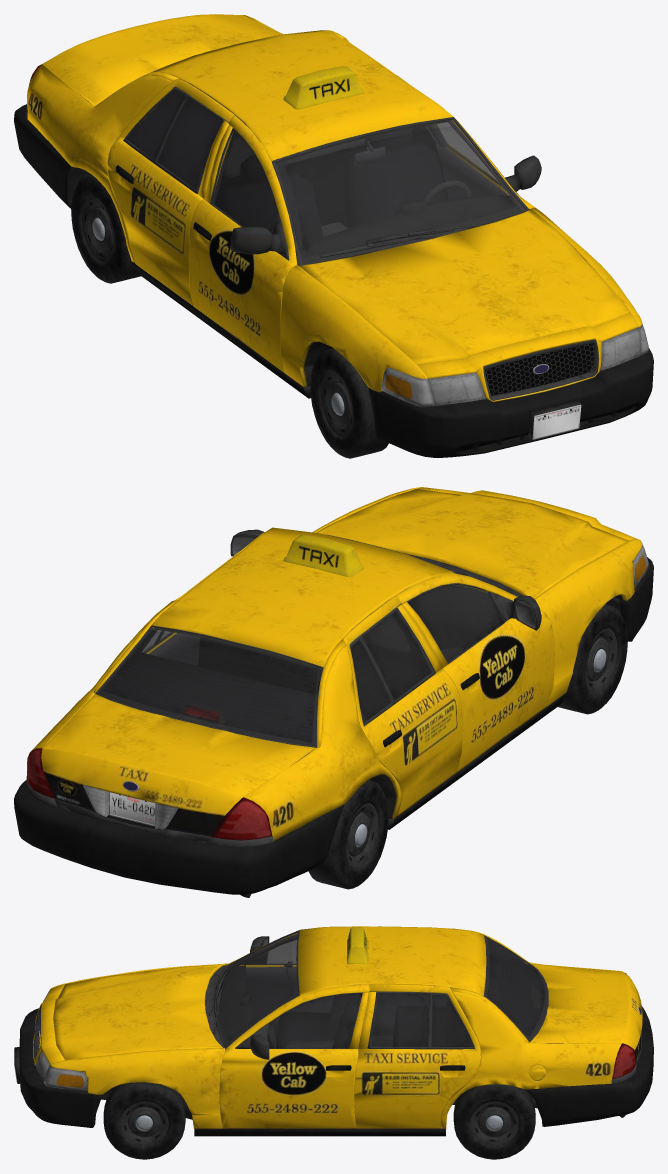
Rendered from crownvic_taxi.lod0.glb.
The picture shows the model from 3 angles, top to bottom: view 1: azimuth 30°, elevation 25°; view 2: azimuth 150°, elevation 25°; view 3: azimuth 270°, elevation 25°; orthographic projection. The views are drawn at different scales.
Parts seen in each view (by area): view 1: crown_vic_taxi_main_frame_0, crown_vic_taxi_glass_window_0, crown_vic_taxi_interior_bottom_0, crown_vic_taxi_wheels_and_parts_0, crown_vic_taxi_glass_0, crown_vic_taxi_interior2_0, taxi_sign_taxi_sign_0, crown_vic_taxi_plate_0; view 2: crown_vic_taxi_main_frame_0, crown_vic_taxi_glass_window_0, crown_vic_taxi_interior_bottom_0, crown_vic_taxi_wheels_and_parts_0, crown_vic_taxi_glass_0, taxi_sign_taxi_sign_0, crown_vic_taxi_interior2_0, crown_vic_taxi_plate_0; view 3: crown_vic_taxi_main_frame_0, crown_vic_taxi_glass_window_0, crown_vic_taxi_interior_bottom_0, crown_vic_taxi_wheels_and_parts_0, crown_vic_taxi_interior2_0, crown_vic_taxi_glass_0, taxi_sign_taxi_sign_0.
Boxes of the visible parts, left/top/right/bottom form: crown_vic_taxi_main_frame_0: left=14, top=14, right=653, bottom=457; crown_vic_taxi_glass_window_0: left=126, top=50, right=525, bottom=264; crown_vic_taxi_interior_bottom_0: left=80, top=91, right=519, bottom=263; crown_vic_taxi_wheels_and_parts_0: left=71, top=174, right=549, bottom=458; crown_vic_taxi_glass_0: left=27, top=64, right=648, bottom=407; crown_vic_taxi_interior2_0: left=127, top=103, right=524, bottom=264; taxi_sign_taxi_sign_0: left=283, top=66, right=363, bottom=109; crown_vic_taxi_plate_0: left=528, top=400, right=581, bottom=440; crown_vic_taxi_main_frame_0: left=14, top=487, right=653, bottom=894; crown_vic_taxi_glass_window_0: left=97, top=558, right=503, bottom=745; crown_vic_taxi_interior_bottom_0: left=98, top=585, right=502, bottom=897; crown_vic_taxi_wheels_and_parts_0: left=122, top=604, right=627, bottom=889; crown_vic_taxi_glass_0: left=27, top=544, right=648, bottom=840; taxi_sign_taxi_sign_0: left=283, top=534, right=363, bottom=577; crown_vic_taxi_interior2_0: left=112, top=585, right=488, bottom=676; crown_vic_taxi_plate_0: left=109, top=792, right=155, bottom=826; crown_vic_taxi_main_frame_0: left=19, top=926, right=653, bottom=1136; crown_vic_taxi_glass_window_0: left=215, top=932, right=547, bottom=1048; crown_vic_taxi_interior_bottom_0: left=101, top=956, right=625, bottom=1119; crown_vic_taxi_wheels_and_parts_0: left=37, top=1006, right=641, bottom=1159; crown_vic_taxi_interior2_0: left=226, top=934, right=524, bottom=1046; crown_vic_taxi_glass_0: left=35, top=972, right=635, bottom=1091; taxi_sign_taxi_sign_0: left=347, top=927, right=368, bottom=964.
Bounding box in the file's own units: 2.64 × 2.01 × 6.52.
Materials: 8 (8 with a texture image).
